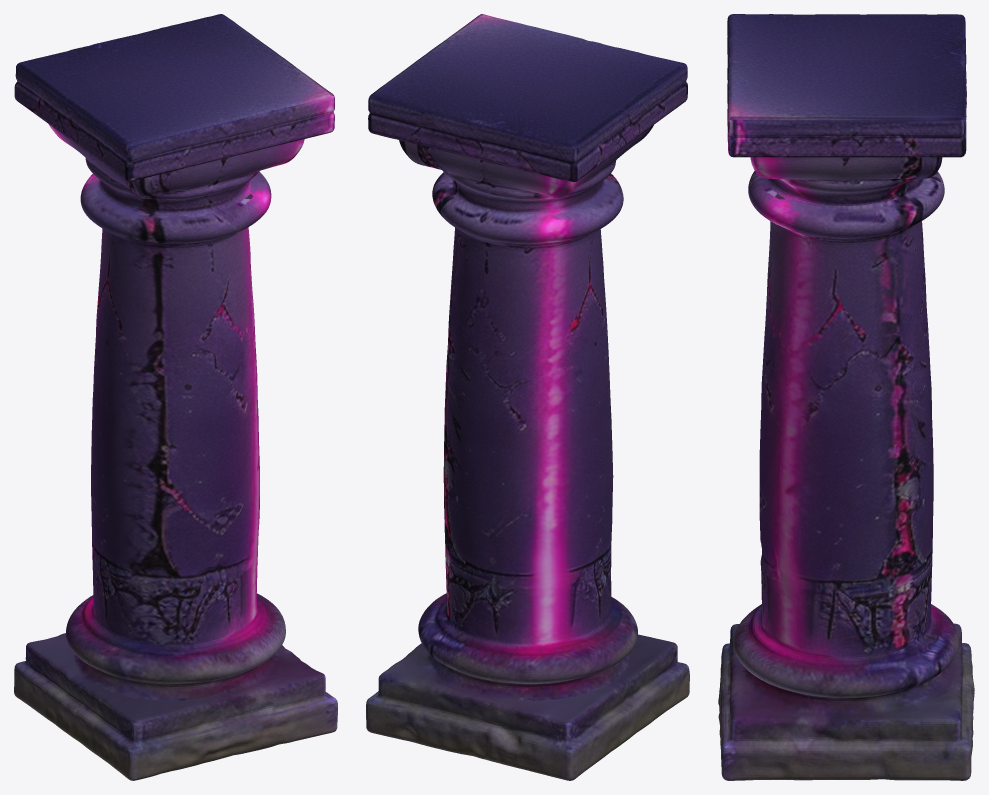
File: weathered-monolith-pillar-texture-wrap-2026-05-15T01-23-39-002Z.glb
3 views of the same model, side by side, from view 1: azimuth 30°, elevation 25°; view 2: azimuth 150°, elevation 25°; view 3: azimuth 270°, elevation 25° (orthographic). The views are drawn at different scales.
Visible parts, largest first — view 1: temp_mesh.ply; view 2: temp_mesh.ply; view 3: temp_mesh.ply.
Part boxes in pixels (x1=…): temp_mesh.ply: x1=14, y1=14, x2=337, y2=780; temp_mesh.ply: x1=366, y1=14, x2=689, y2=780; temp_mesh.ply: x1=718, y1=14, x2=974, y2=780.
Bounding box in the file's own units: 0.6844 × 1.97 × 0.6912.
1 material, 1 textured.
